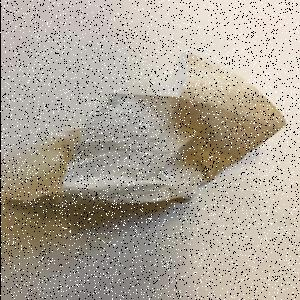Trash: (2, 53, 288, 204)
